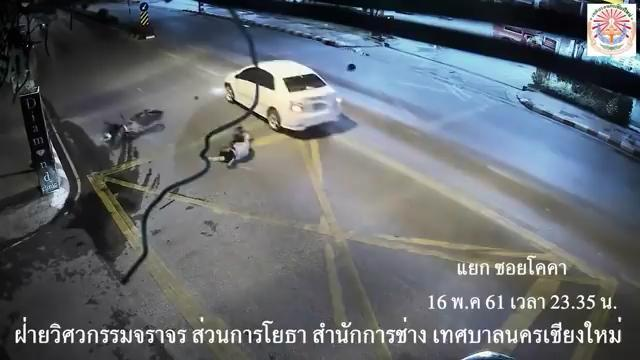accident: (207, 126, 253, 168)
